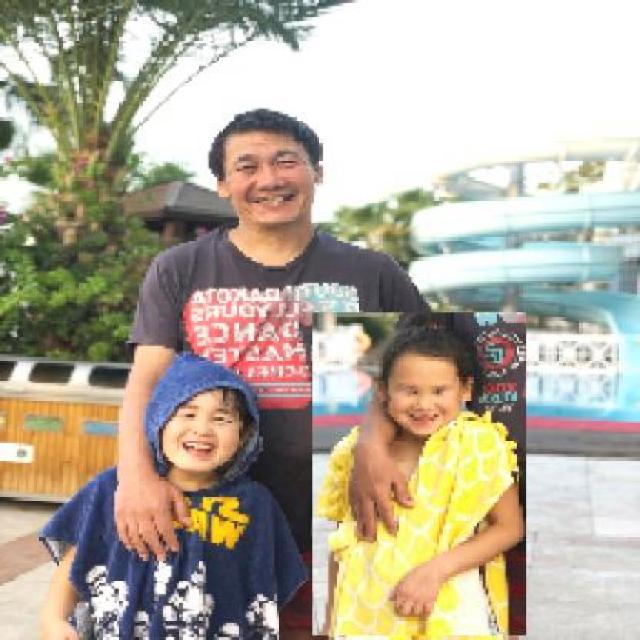child: (40, 348, 309, 638), (311, 312, 526, 637)
